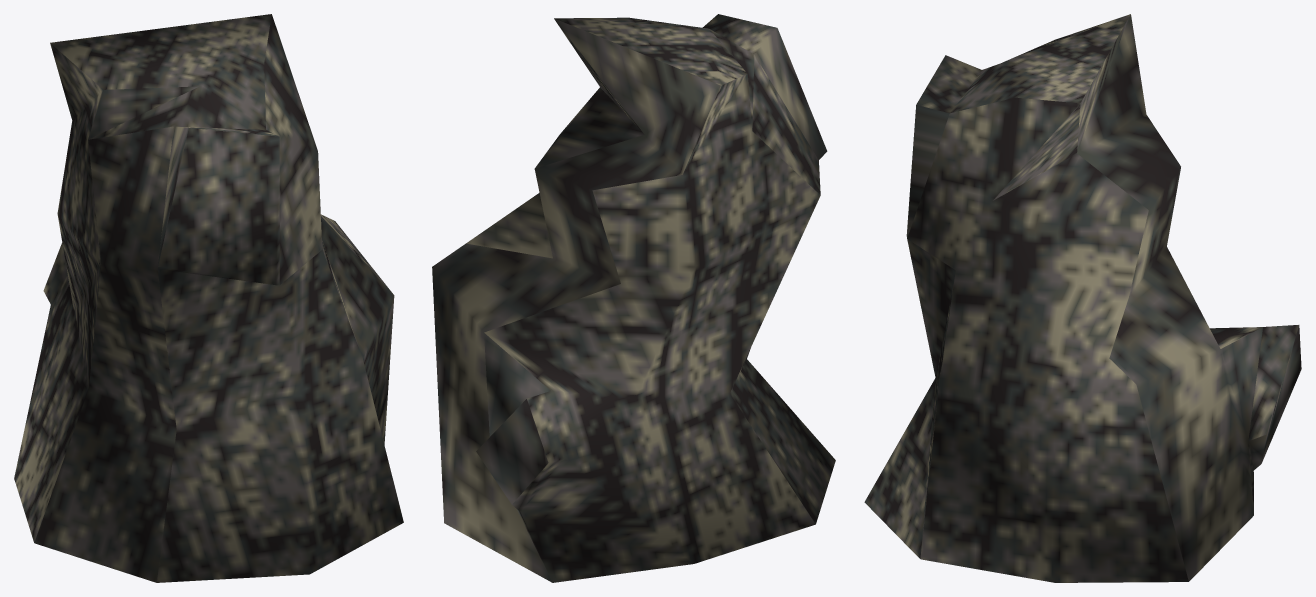
Rendered from DeadTree_trunk.fbx.
The picture shows the model from 3 angles, left to right: view 1: azimuth 30°, elevation 25°; view 2: azimuth 150°, elevation 25°; view 3: azimuth 270°, elevation 25°; orthographic projection. The views are drawn at different scales.
Parts seen in each view (by area): view 1: DeadTree_trunk; view 2: DeadTree_trunk; view 3: DeadTree_trunk.
Boxes of the visible parts, x1,y1,x2,y2 form: DeadTree_trunk: [14, 14, 403, 582]; DeadTree_trunk: [432, 14, 835, 582]; DeadTree_trunk: [864, 14, 1301, 582].
Size of the model in its own units: 97.16 by 127 by 111.
